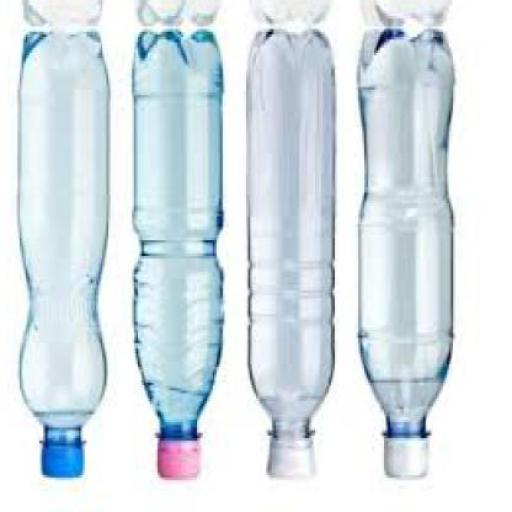plastic: (360, 32, 455, 482), (20, 34, 112, 480), (134, 34, 224, 482), (250, 32, 336, 482), (268, 441, 320, 480), (386, 438, 431, 483), (158, 441, 203, 483), (41, 444, 87, 480)
